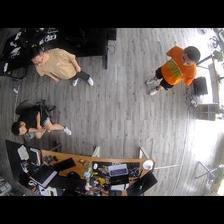normal: (144, 46, 200, 95), (31, 46, 93, 86), (10, 108, 71, 137)
